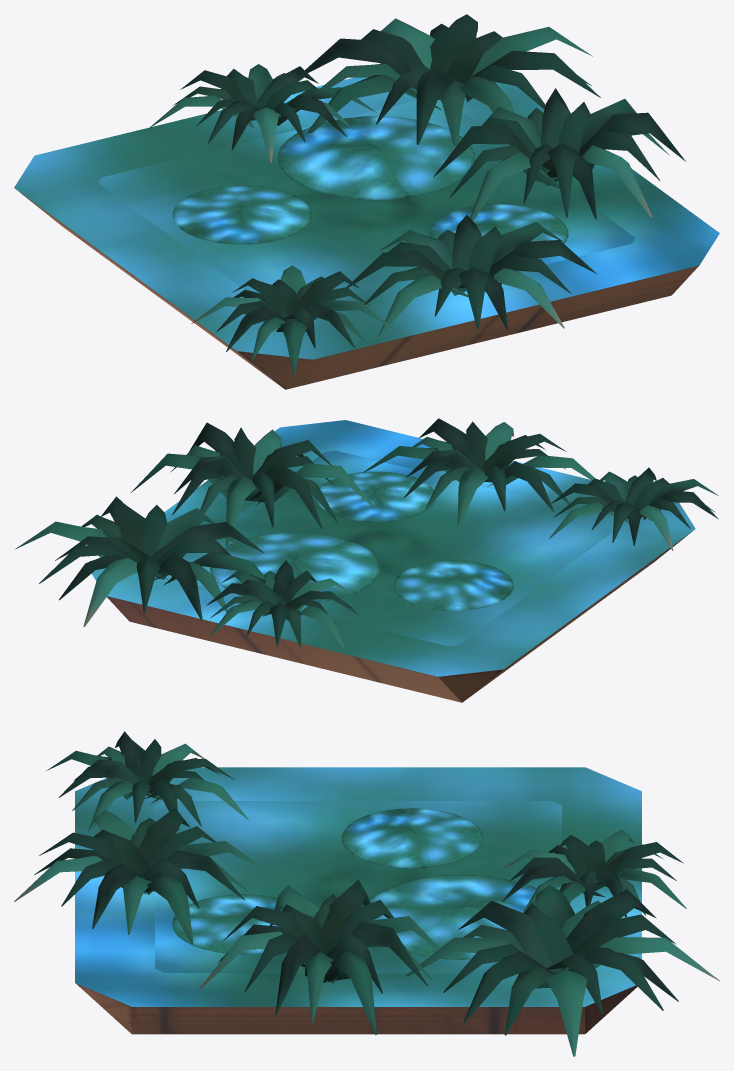
Rendered from mushroom_platform_2.glb.
3 views of the same model, one above another, from view 1: azimuth 30°, elevation 25°; view 2: azimuth 150°, elevation 25°; view 3: azimuth 270°, elevation 25° (orthographic). The views are drawn at different scales.
Parts seen in each view (by area): view 1: platform.002; view 2: platform.002; view 3: platform.002.
Part boxes in pixels (left/top/right/bottom): platform.002: left=14, top=14, right=719, bottom=389; platform.002: left=15, top=418, right=718, bottom=702; platform.002: left=14, top=731, right=719, bottom=1056.
Bounding box in the file's own units: 1.23 × 0.2219 × 1.25.
Materials: 1 (1 with a texture image).
